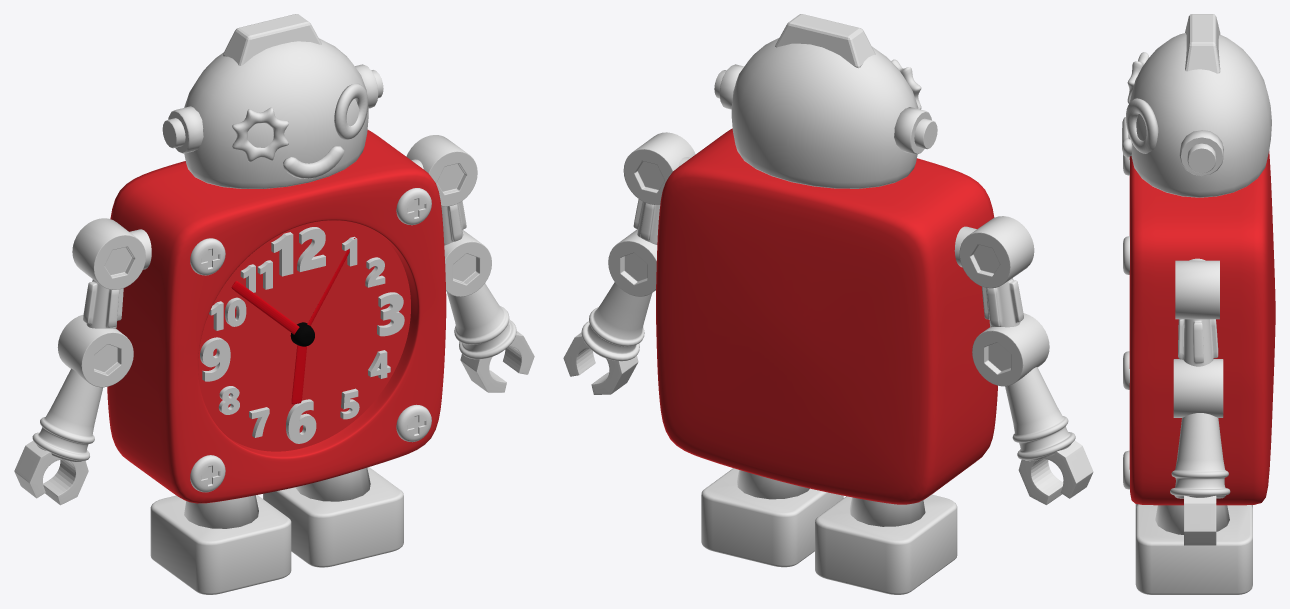
File: roboClock.fbx
The picture shows the model from 3 angles, left to right: view 1: azimuth 30°, elevation 25°; view 2: azimuth 150°, elevation 25°; view 3: azimuth 270°, elevation 25°; orthographic projection. The views are drawn at different scales.
Visible parts, largest first — view 1: Cylinder, Cylinder.005, Sphere.001, Cube.004, Cube.003, Cube.005, Cube.006, Cube.007, Cylinder.025, Text.001, Cylinder.028, Cylinder.026 (+13 smaller); view 2: Cylinder, Sphere.001, Cube.004, Cube.003, Cube.005, Cube.006, Cube.007, Cylinder.025, Cylinder.009, Cylinder.026, Cylinder.008; view 3: Cylinder, Sphere.001, Cube.003, Cube.006, Cube.007, Cylinder.008, Cylinder.027, Cylinder.026, Cylinder.028, Cylinder.029, Cylinder.023, Cylinder.021 (+1 smaller).
Boxes of the visible parts, x1,y1,x2,y2 form: Cylinder: (107, 130, 446, 503); Cylinder.005: (198, 220, 410, 451); Sphere.001: (184, 38, 368, 188); Cube.004: (14, 218, 151, 505); Cube.003: (406, 135, 534, 392); Cube.005: (150, 495, 291, 594); Cube.006: (263, 467, 403, 567); Cube.007: (223, 14, 321, 65); Cylinder.025: (184, 495, 258, 528); Text.001: (271, 227, 325, 276); Cylinder.028: (232, 107, 288, 162); Cylinder.026: (295, 467, 370, 501); Cylinder: (656, 128, 997, 504); Sphere.001: (731, 38, 918, 188); Cube.004: (954, 216, 1093, 504); Cube.003: (563, 132, 695, 394); Cube.005: (815, 494, 957, 594); Cube.006: (701, 468, 843, 567); Cube.007: (775, 14, 875, 68); Cylinder.025: (849, 497, 925, 526); Cylinder.009: (894, 107, 937, 154); Cylinder.026: (737, 470, 809, 499); Cylinder.008: (714, 64, 744, 109); Cylinder: (1129, 151, 1275, 505); Sphere.001: (1128, 33, 1271, 197); Cube.003: (1170, 258, 1230, 545); Cube.006: (1135, 504, 1252, 594); Cube.007: (1185, 14, 1220, 73); Cylinder.008: (1179, 130, 1223, 175); Cylinder.027: (1126, 98, 1158, 153); Cylinder.026: (1155, 505, 1229, 534); Cylinder.028: (1127, 52, 1148, 103); Cylinder.029: (1122, 117, 1132, 157); Cylinder.023: (1123, 450, 1129, 489); Cylinder.021: (1123, 236, 1129, 274).
Size of the model in its own units: 144 by 142 by 38.18.
